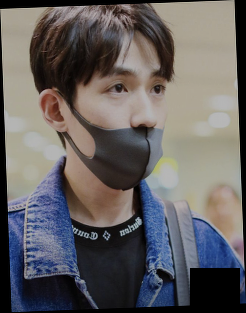mask_weared_incorrect: (78, 64, 172, 192)
